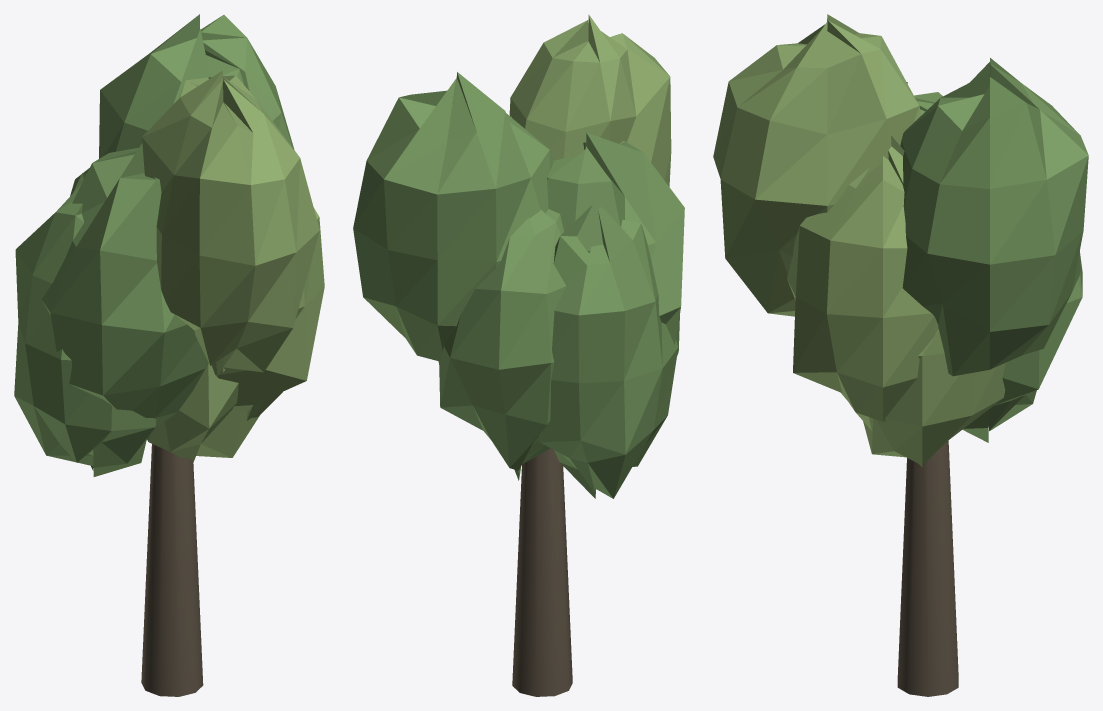
Rendered from ornamental_tree_variant_01.glb.
3 views of the same model, side by side, from view 1: azimuth 30°, elevation 25°; view 2: azimuth 150°, elevation 25°; view 3: azimuth 270°, elevation 25° (orthographic). The views are drawn at different scales.
Parts seen in each view (by area): view 1: static_leaf_oak, static_leaf_light, static_bark; view 2: static_leaf_oak, static_leaf_light, static_bark; view 3: static_leaf_light, static_leaf_oak, static_bark.
Part boxes in pixels (x1,y1,x2,y2): static_leaf_oak: (14,14,294,476); static_leaf_light: (142,70,324,462); static_bark: (141,444,203,696); static_leaf_oak: (353,72,684,498); static_leaf_light: (438,14,671,364); static_bark: (512,448,572,696); static_leaf_light: (713,14,1005,466); static_leaf_oak: (900,58,1088,442); static_bark: (897,440,958,696).
Size of the model in its own units: 2.12 by 4.6 by 2.34.
